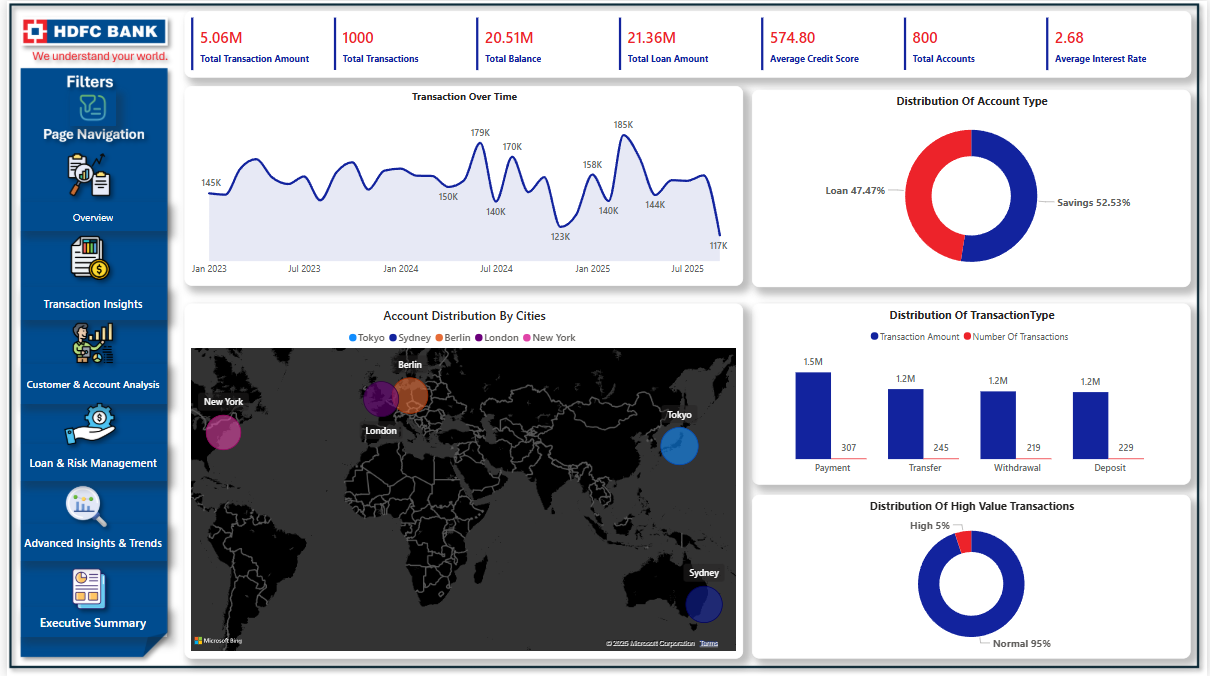

The dashboard page shown, as its layout file describes it:
{"tool":"powerbi","page":{"name":"Overview","canvas":[1600,900],"ordinal":1},"visuals":[{"type":"cardVisual","fields":{"Data":["All Measures.Total Transaction Amount","All Measures.Total Transactions","All Measures.Total Balance","All Measures.Total Loan Amount","All Measures.Average Credit Score","All Measures.Total Accounts","All Measures.Average Interest Rate"]},"box":[236.8,13.6,1342.2,89],"z":0},{"type":"pageNavigator","box":[16.7,268.3,196.7,38.3],"z":1000},{"type":"pageNavigator","box":[16.7,381.7,196.7,43.3],"z":2000},{"type":"pageNavigator","box":[16.7,483.3,196.7,53.3],"z":3000},{"type":"pageNavigator","box":[16.7,590,196.7,50],"z":4000},{"type":"pageNavigator","box":[16.7,696.7,196.7,50],"z":5000},{"type":"pageNavigator","box":[16.7,808.3,196.7,40],"z":6000},{"type":"lineChart","title":"Transaction Over Time","fields":{"Y":["All Measures.Total Transaction Amount"],"Category":["CalendarTable.Date.Variation.Date Hierarchy.Year","CalendarTable.Date.Variation.Date Hierarchy.Quarter","CalendarTable.Date.Variation.Date Hierarchy.Month","CalendarTable.Date.Variation.Date Hierarchy.Day"]},"box":[236.7,113.3,745,266.7],"z":8000},{"type":"donutChart","title":"Distribution Of Account Type","fields":{"Category":["customer_account_details.AccountType"],"Y":["CountNonNull(customer_account_details.AccountNumber)"]},"box":[993.3,118.3,585,263.3],"z":9000},{"type":"clusteredColumnChart","title":"Distribution Of TransactionType","fields":{"Category":["banking_transactions.TransactionType"],"Y":["All Measures.Total Transaction Amount","CountNonNull(banking_transactions.TransactionID)"]},"box":[993.3,403.3,585,241.7],"z":10000},{"type":"map","title":"Account Distribution By Cities","fields":{"Category":["customer_account_details.City"],"Size":["All Measures.Total Accounts"],"Series":["customer_account_details.City"]},"box":[236.7,403.3,745,473.3],"z":11000},{"type":"donutChart","title":"Distribution Of High Value Transactions","fields":{"Category":["banking_transactions.High_Value_Transactions"],"Y":["CountNonNull(banking_transactions.High_Value_Transactions)"]},"box":[993.3,658.3,585,218.3],"z":12000},{"type":"image","title":"Filter Button","box":[83.3,118.3,61.7,48.3],"z":13500}]}

Visuals, with their boxes in screenshot pixels (x1, y1, x2, y2), scaled from the page's 1600x900 canvas onto the 1210x676 screenshot:
cardVisual - All Measures.Total Transaction Amount x All Measures.Total Transactions: [179, 10, 1194, 77]
pageNavigator: [13, 202, 161, 230]
pageNavigator: [13, 287, 161, 319]
pageNavigator: [13, 363, 161, 403]
pageNavigator: [13, 443, 161, 481]
pageNavigator: [13, 523, 161, 561]
pageNavigator: [13, 607, 161, 637]
"Transaction Over Time" lineChart: [179, 85, 742, 285]
"Distribution Of Account Type" donutChart: [751, 89, 1194, 287]
"Distribution Of TransactionType" clusteredColumnChart: [751, 303, 1194, 484]
"Account Distribution By Cities" map: [179, 303, 742, 658]
"Distribution Of High Value Transactions" donutChart: [751, 494, 1194, 658]
"Filter Button" image: [63, 89, 110, 125]
